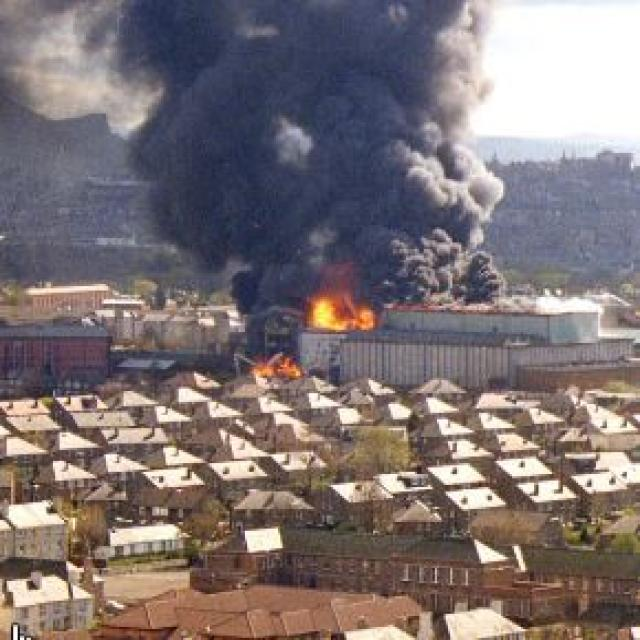Smoke: (87, 0, 542, 329)
